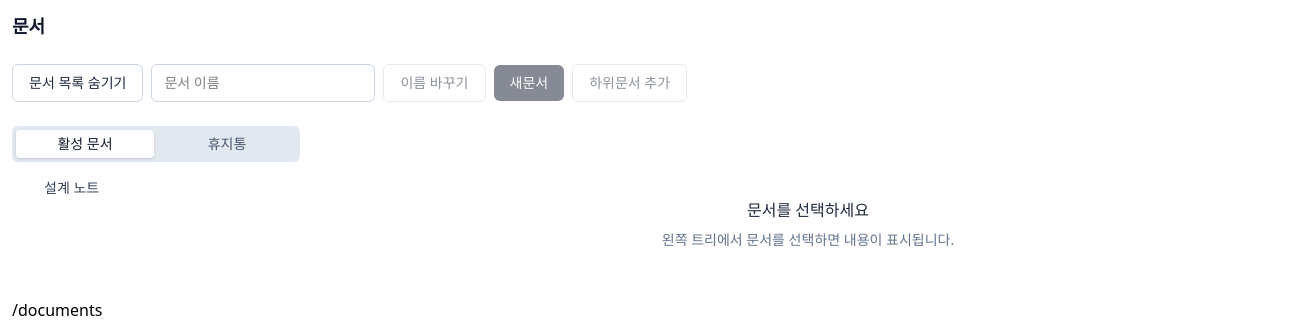
Test case: DocumentWorkspacePage 조립 (트리 + 브레드크럼 + 뷰어 + 툴바) › 트리 패널을 숨겨도 선택된 문서 뷰어는 유지된다
The width and height of the screenshot is (1304, 333).
Click the button "설계 노트" at (168, 188), box [44,178,292,198]
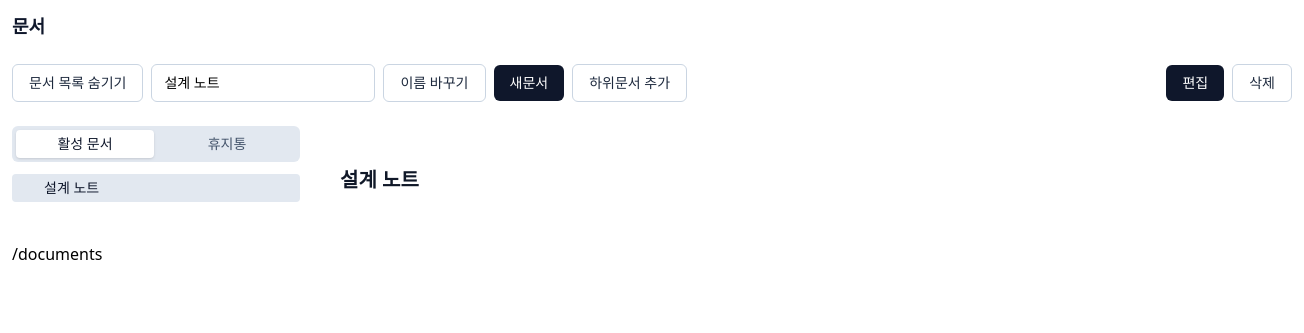
Click the button "문서 목록 숨기기" at (78, 83), box [12,64,144,102]
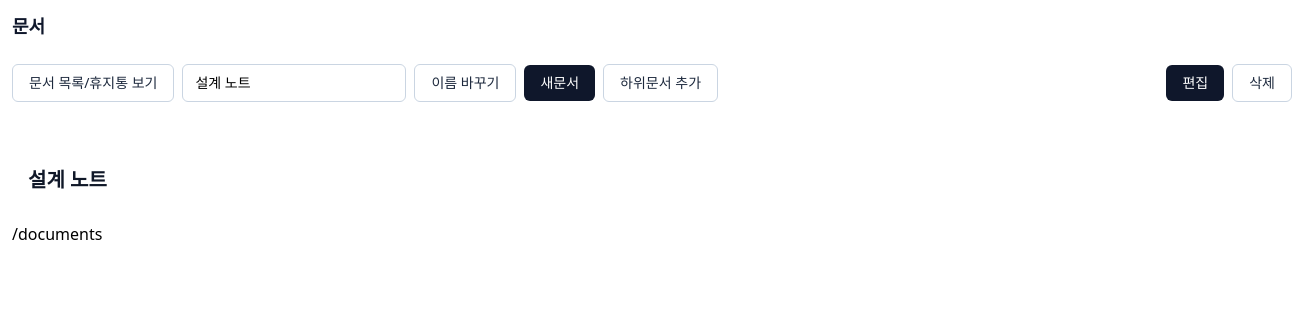
Expected: the text "문서를 선택하세요" is not shown
Expected: the tab with id "document-tree-panel" is gone
